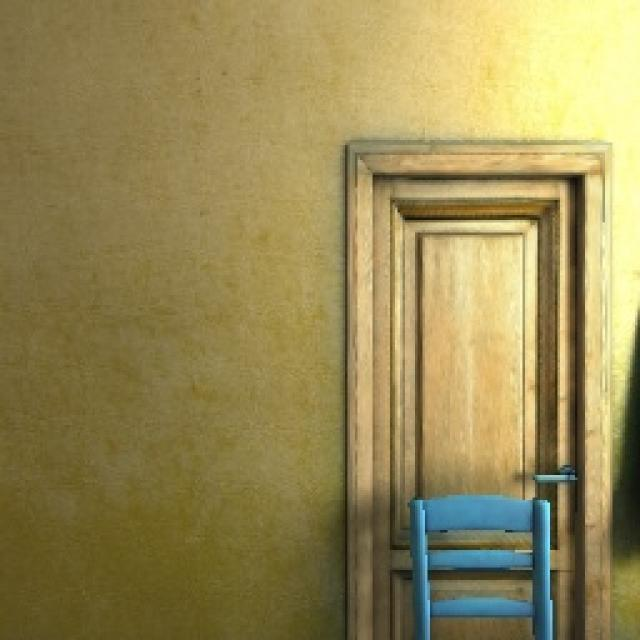door: (342, 147, 634, 640)
